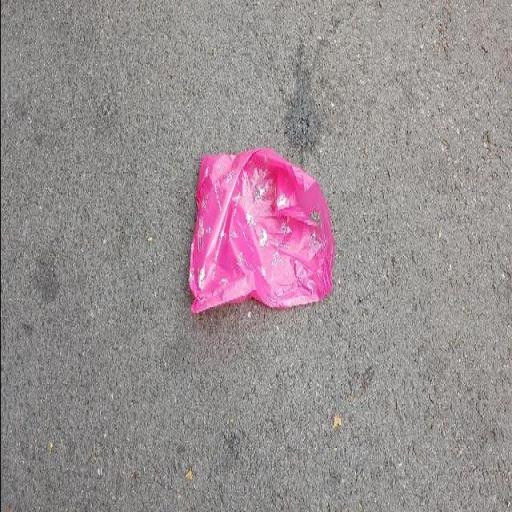plastic-bag: (186, 146, 335, 321)
